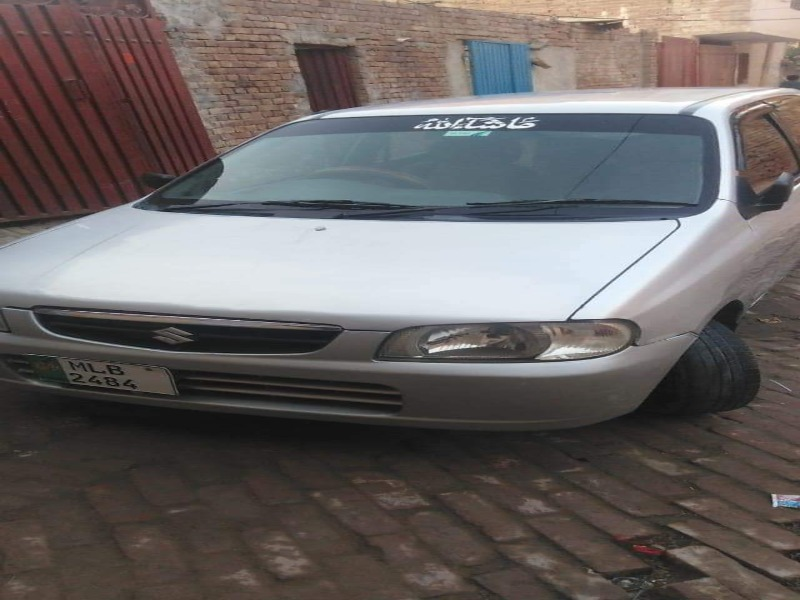License Plate: (5, 351, 181, 404)
